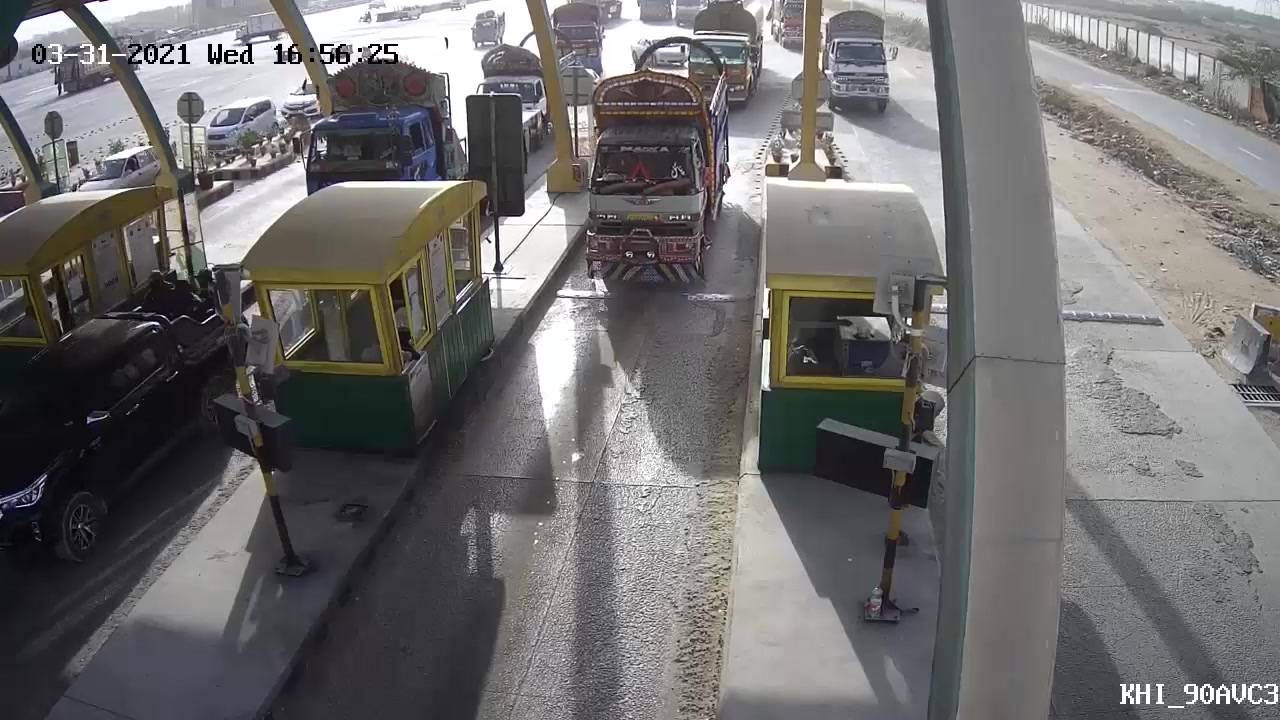F5: (576, 36, 735, 294)
